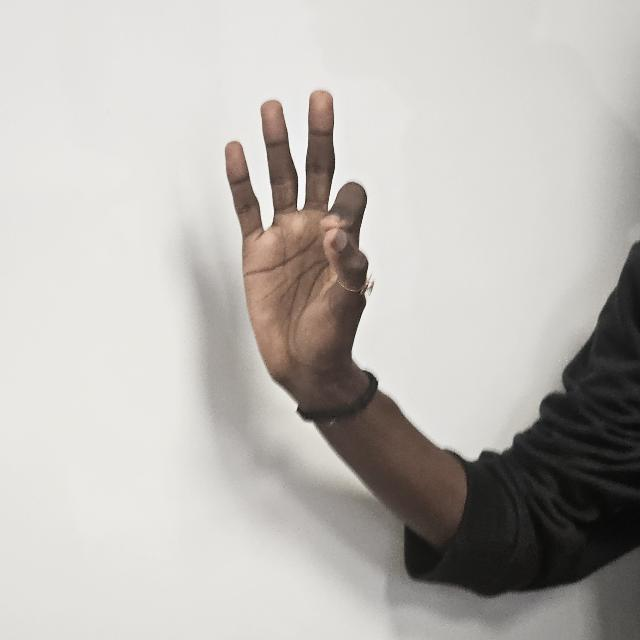Bolinha: (224, 87, 370, 411)
